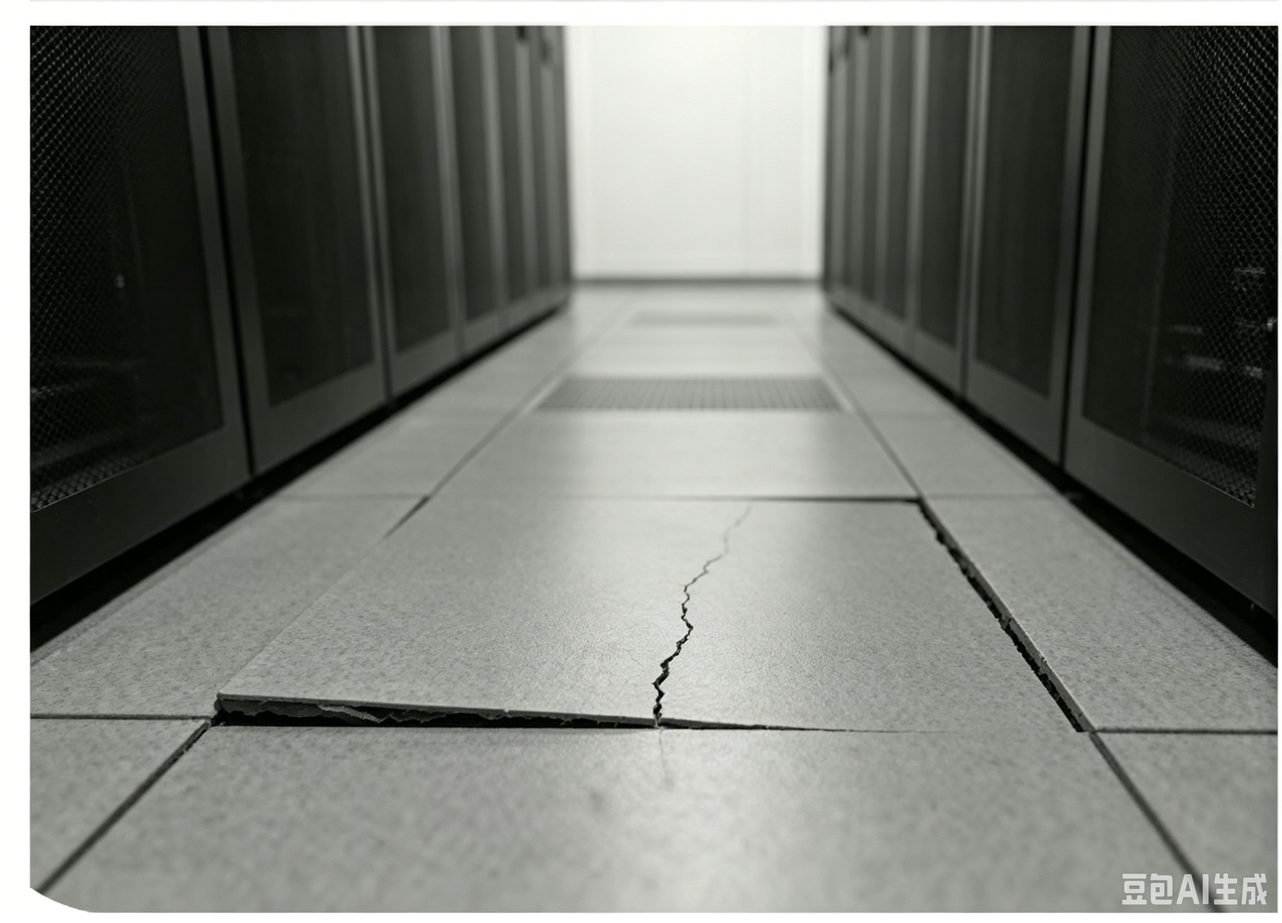floor_defect: (189, 624, 1110, 746), (889, 495, 1042, 640), (675, 498, 739, 637)
